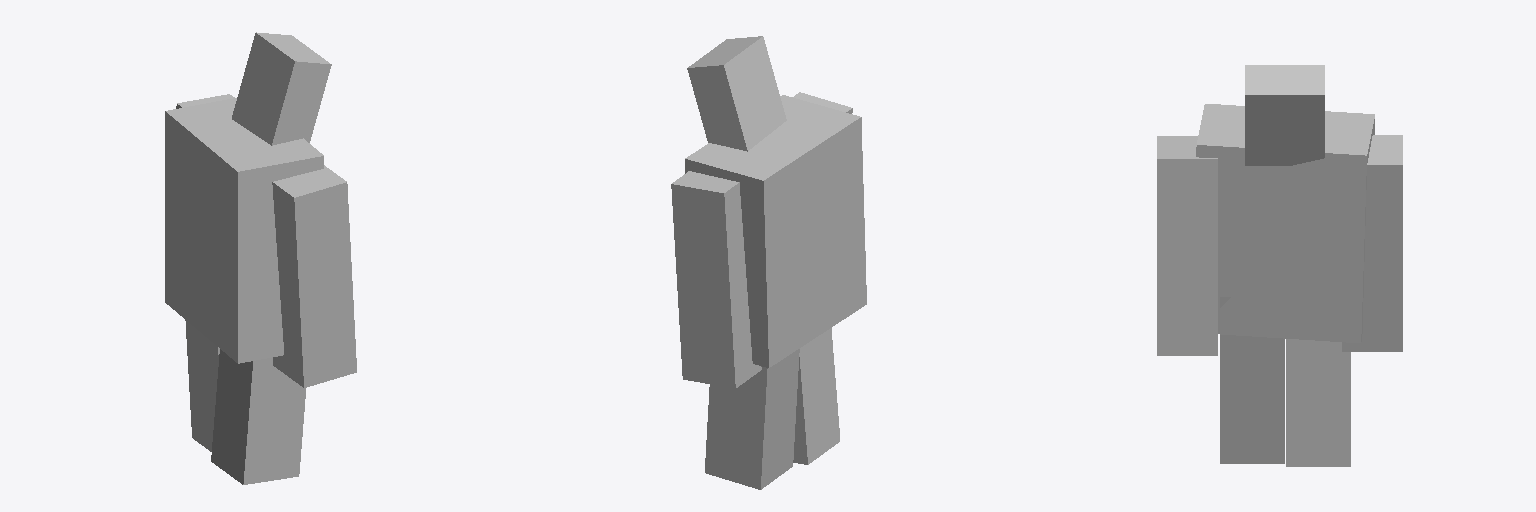
Rendered from walk_000001.obj.
3 renders of one model, left to right at view 1: azimuth 30°, elevation 25°; view 2: azimuth 150°, elevation 25°; view 3: azimuth 270°, elevation 25°, orthographic.
Visible parts, largest first — view 1: Cube, leg.002_Cube.006, leg.001_Cube.007, Cube.001_Cube.003, leg_Cube.001; view 2: Cube, leg.003_Cube.002, leg_Cube.001, Cube.001_Cube.003, leg.001_Cube.007; view 3: Cube, leg.002_Cube.006, leg.003_Cube.002, leg.001_Cube.007, leg_Cube.001, Cube.001_Cube.003, Plane.002.
Boxes of the visible parts, box(x1,y1,x2,y2) form: Cube: box(165, 98, 323, 363); leg.002_Cube.006: box(272, 165, 356, 387); leg.001_Cube.007: box(211, 349, 305, 484); Cube.001_Cube.003: box(232, 32, 331, 145); leg_Cube.001: box(185, 320, 219, 451); Cube: box(685, 95, 866, 367); leg.003_Cube.002: box(671, 171, 761, 388); leg_Cube.001: box(705, 349, 799, 489); Cube.001_Cube.003: box(687, 36, 786, 151); leg.001_Cube.007: box(793, 328, 839, 464); Cube: box(1196, 104, 1374, 342); leg.002_Cube.006: box(1157, 136, 1217, 355); leg.003_Cube.002: box(1342, 135, 1402, 351); leg.001_Cube.007: box(1220, 297, 1284, 463); leg_Cube.001: box(1286, 339, 1350, 466); Cube.001_Cube.003: box(1245, 65, 1324, 165); Plane.002: box(1260, 135, 1310, 159).
Size of the model in its own units: 1.9 by 6.28 by 3.47.